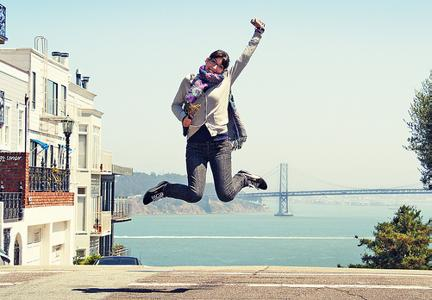person: (143, 19, 268, 204)
